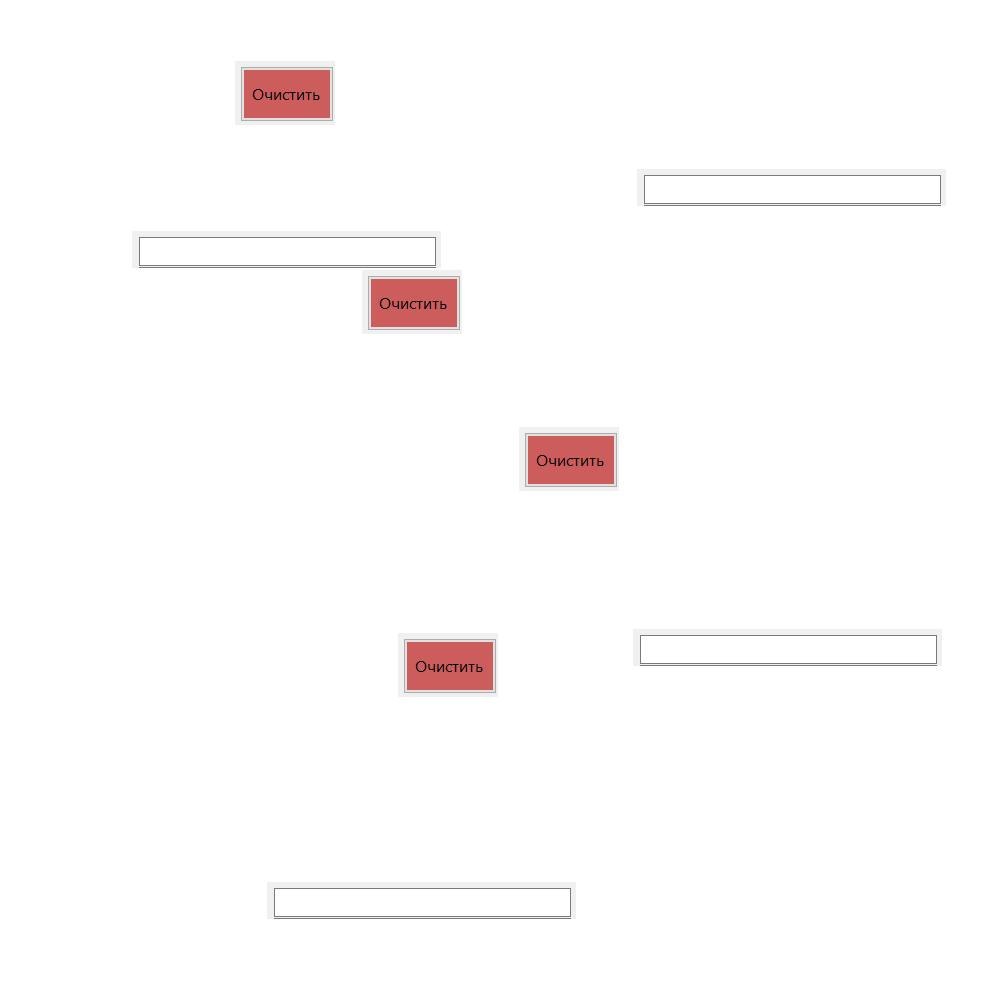Button: (362, 270, 462, 334), (398, 633, 498, 697), (519, 427, 619, 491), (235, 61, 335, 125)
EditText-: (637, 169, 946, 206), (132, 231, 441, 268), (267, 882, 576, 919), (633, 629, 942, 666)
